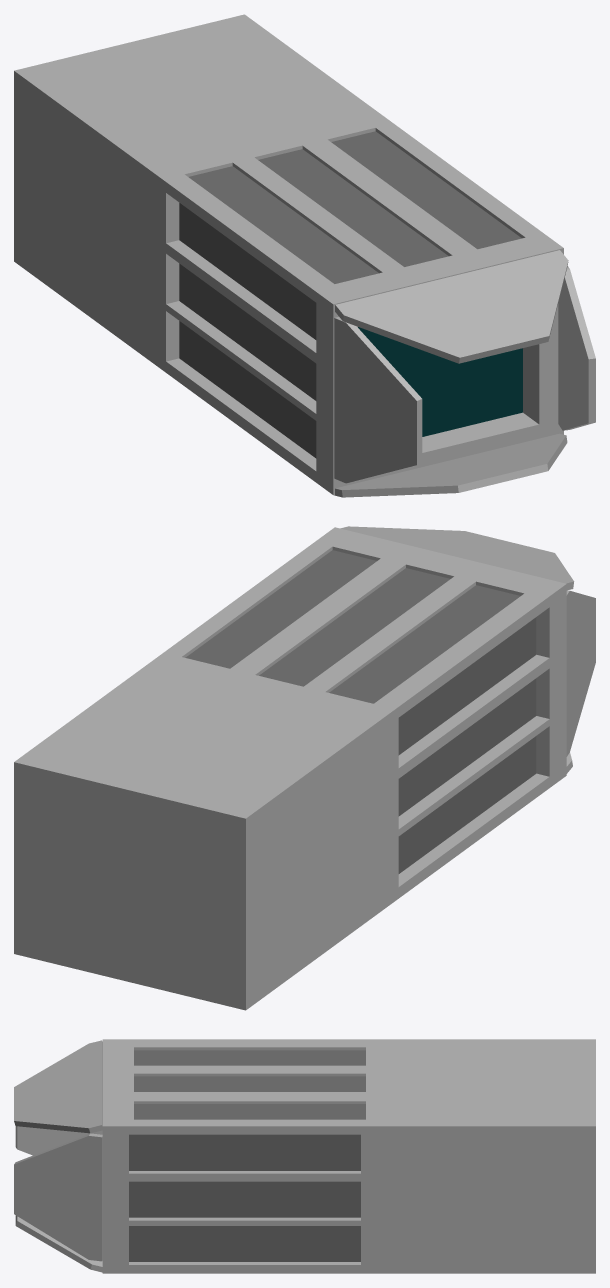
Rendered from KestrelMk1MainThruster.glb.
3 views of the same model, one above another, from view 1: azimuth 30°, elevation 25°; view 2: azimuth 150°, elevation 25°; view 3: azimuth 270°, elevation 25° (orthographic). The views are drawn at different scales.
Parts seen in each view (by area): view 1: Main Thruster, Flap, Flap.002, Flap.003, Flap.001; view 2: Main Thruster, Flap, Flap.002; view 3: Main Thruster, Flap.001, Flap, Flap.002, Flap.003.
Part boxes in pixels (x1,y1,x2,y2): Main Thruster: [14, 14, 563, 495]; Flap: [335, 250, 568, 363]; Flap.002: [334, 317, 422, 483]; Flap.003: [334, 433, 567, 497]; Flap.001: [558, 266, 595, 430]; Main Thruster: [14, 527, 566, 1010]; Flap: [340, 526, 574, 590]; Flap.002: [566, 590, 595, 756]; Main Thruster: [102, 1039, 595, 1273]; Flap.001: [14, 1133, 102, 1261]; Flap: [14, 1040, 102, 1133]; Flap.002: [15, 1126, 102, 1155]; Flap.003: [15, 1215, 102, 1272].
Size of the model in its own units: 4.81 by 3.81 by 13.54.
